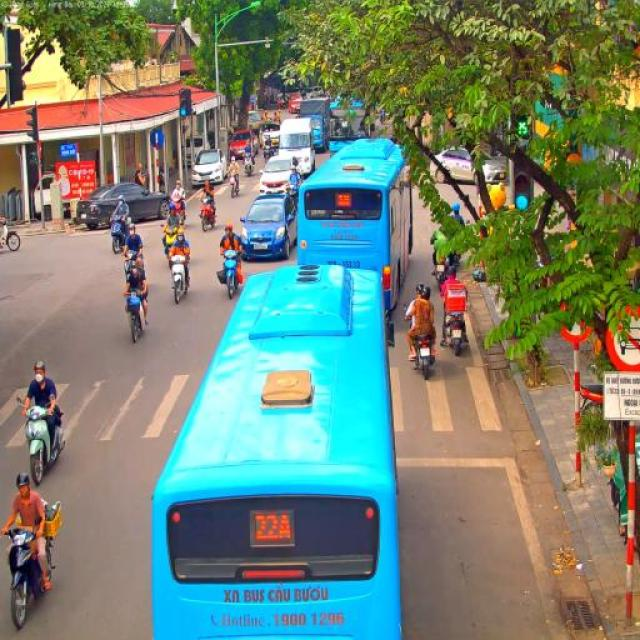bus: (151, 261, 404, 640), (297, 136, 414, 312), (328, 101, 368, 154)
car: (76, 182, 172, 229), (238, 193, 298, 262), (428, 144, 508, 186), (259, 156, 299, 195), (192, 148, 228, 187), (228, 130, 252, 158), (246, 110, 262, 130)
motorcycle: (0, 498, 61, 628), (16, 396, 65, 485), (410, 330, 438, 381), (165, 253, 191, 305), (218, 250, 244, 300), (125, 288, 147, 344), (442, 309, 468, 356), (576, 380, 604, 419), (161, 223, 187, 263), (120, 247, 145, 284), (109, 216, 132, 254), (0, 217, 21, 252), (198, 197, 218, 232), (282, 184, 299, 215), (171, 198, 187, 228), (435, 256, 450, 288), (229, 170, 241, 199), (243, 153, 256, 177), (262, 148, 274, 164)
truck: (279, 118, 316, 180), (300, 97, 330, 152), (261, 121, 281, 148), (288, 94, 302, 114)
